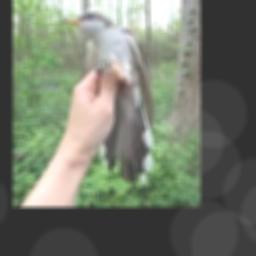Cuckoo: (60, 10, 153, 182)
